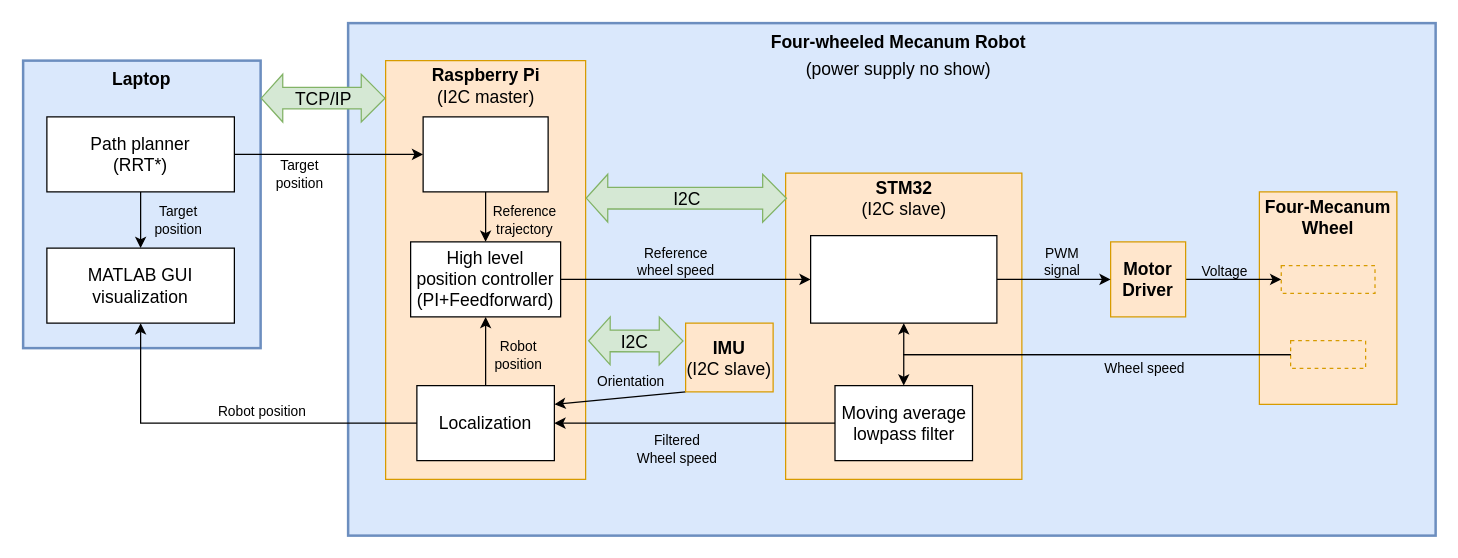
The diagram is 1458 pixels wide and 558 high, and some of its shapes have lost their labels. Each missing label, with the box of its shape:
Encoder: (1289, 339, 1366, 368)
Low level speed controller (Sliding mode with disturbance observer ): (809, 234, 997, 323)
Trajectory generator (S-curve): (422, 116, 548, 192)
TT Motor: (1280, 264, 1375, 293)
